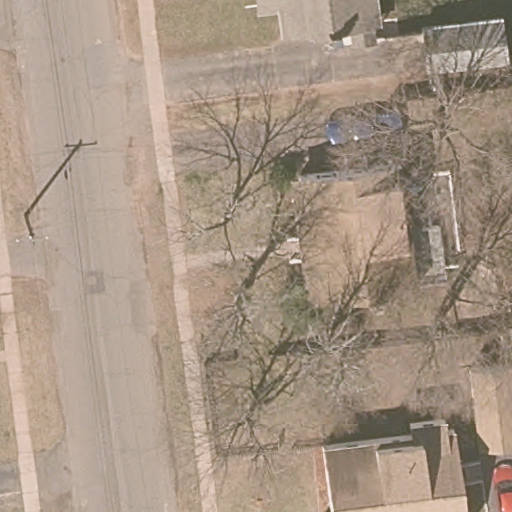DT: (14, 214, 49, 244)
